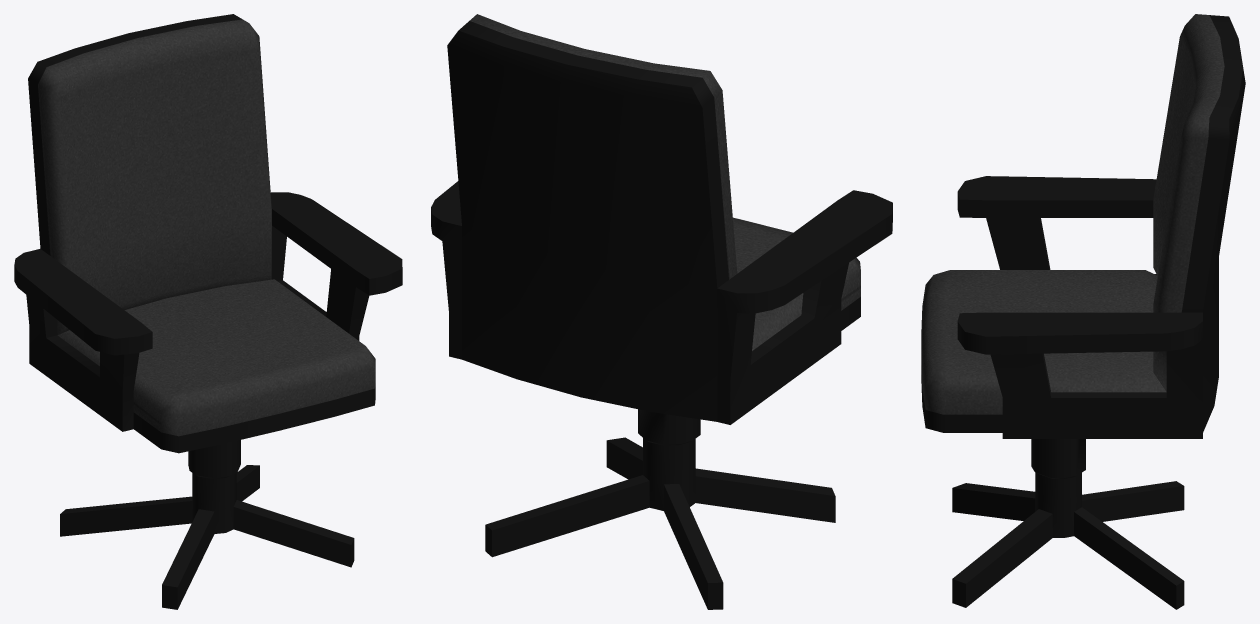
3 views of the same model, side by side, from view 1: azimuth 30°, elevation 25°; view 2: azimuth 150°, elevation 25°; view 3: azimuth 270°, elevation 25° (orthographic). The views are drawn at different scales.
Parts seen in each view (by area): view 1: DeskChairTop_Mesh, DeskChairBtm_Mesh; view 2: DeskChairTop_Mesh, DeskChairBtm_Mesh; view 3: DeskChairTop_Mesh, DeskChairBtm_Mesh.
Boxes of the visible parts, x1,y1,x2,y2 form: DeskChairTop_Mesh: [14, 14, 402, 453]; DeskChairBtm_Mesh: [60, 440, 354, 609]; DeskChairTop_Mesh: [431, 14, 892, 424]; DeskChairBtm_Mesh: [485, 409, 835, 609]; DeskChairTop_Mesh: [921, 14, 1245, 438]; DeskChairBtm_Mesh: [952, 439, 1184, 609].
Size of what is drawn, in the model's own units: 0.8123 by 1.16 by 0.6932.
Materials: 2 (2 with a texture image).
